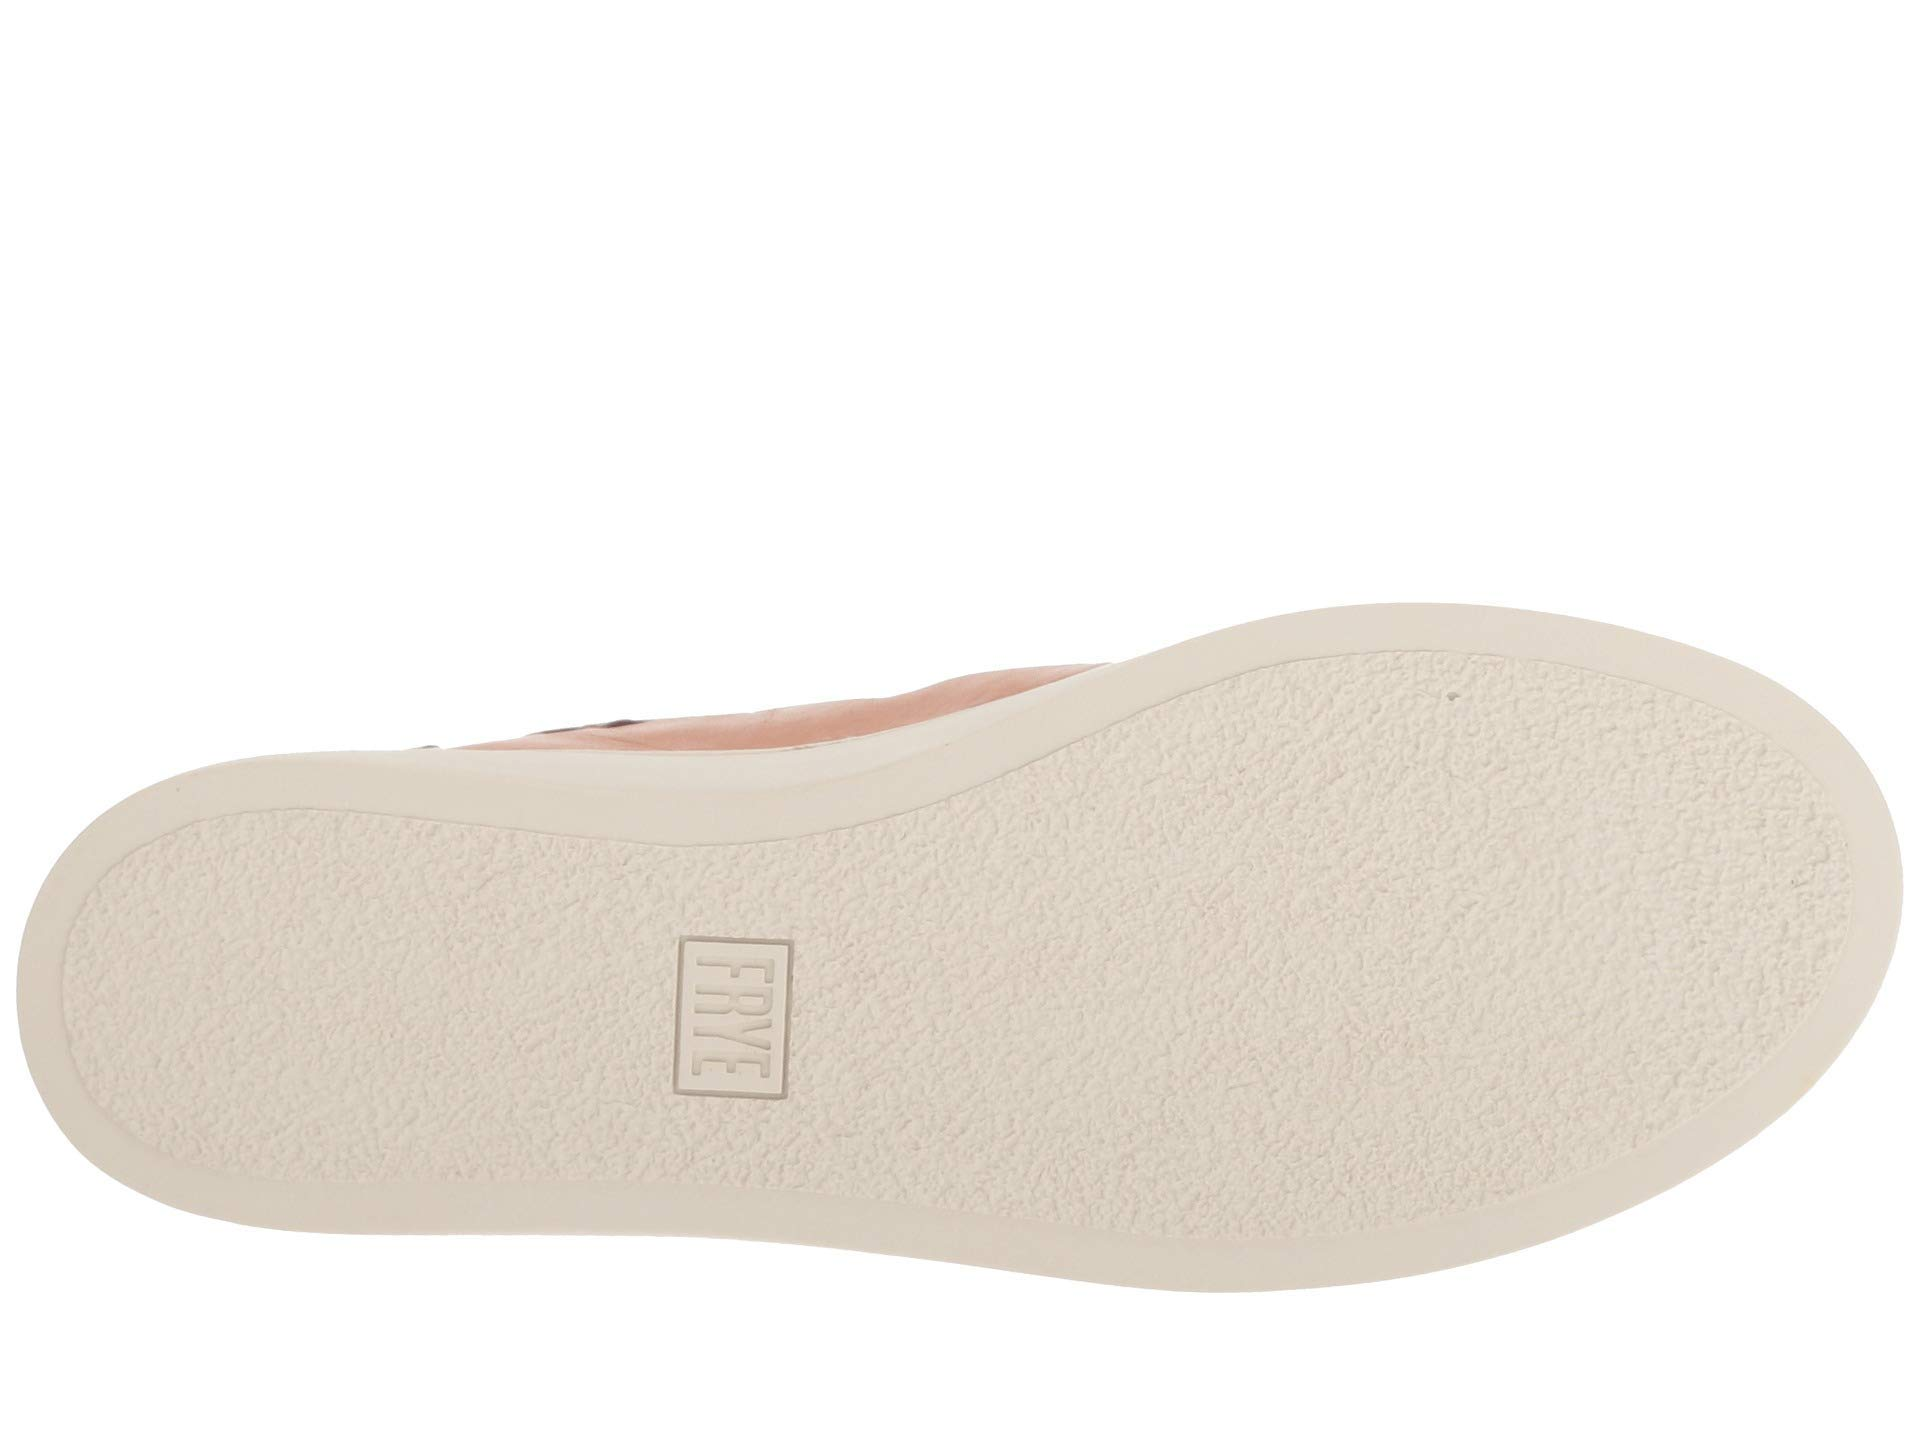line: (135, 787, 980, 855)
other: (1082, 746, 1655, 1124), (135, 787, 980, 855)
quad: (636, 903, 838, 1134)
text: (636, 903, 838, 1134)
